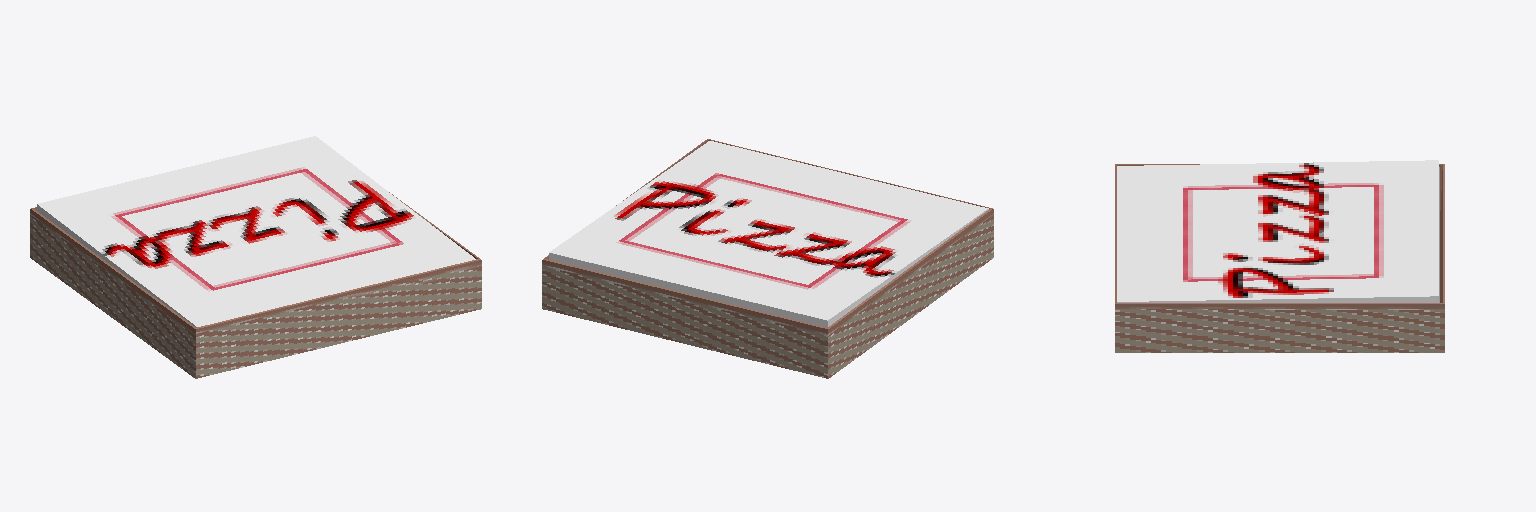
3 renders of one model, left to right at view 1: azimuth 30°, elevation 25°; view 2: azimuth 150°, elevation 25°; view 3: azimuth 270°, elevation 25°, orthographic.
Parts seen in each view (by area): view 1: Cube; view 2: Cube; view 3: Cube.
Part boxes in pixels (x1,y1,x2,y2): Cube: (30, 136, 481, 378); Cube: (542, 139, 993, 378); Cube: (1115, 160, 1444, 352).
Bounding box in the file's own units: 2.18 × 0.4029 × 2.18.
Materials: 1 (1 with a texture image).